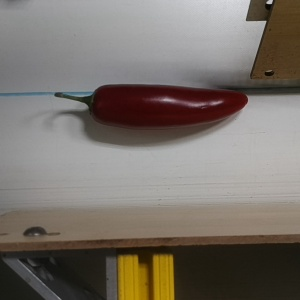Cut Point: (81, 84, 110, 124)
